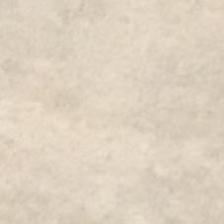Non_Crack: (6, 4, 224, 210)
